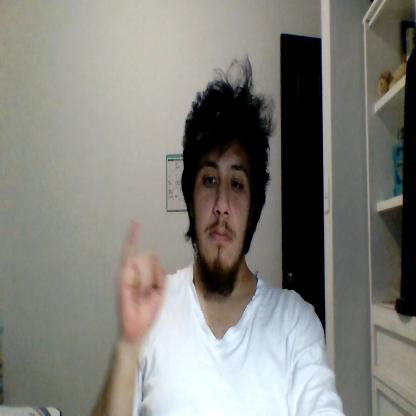I: (115, 221, 166, 335)
